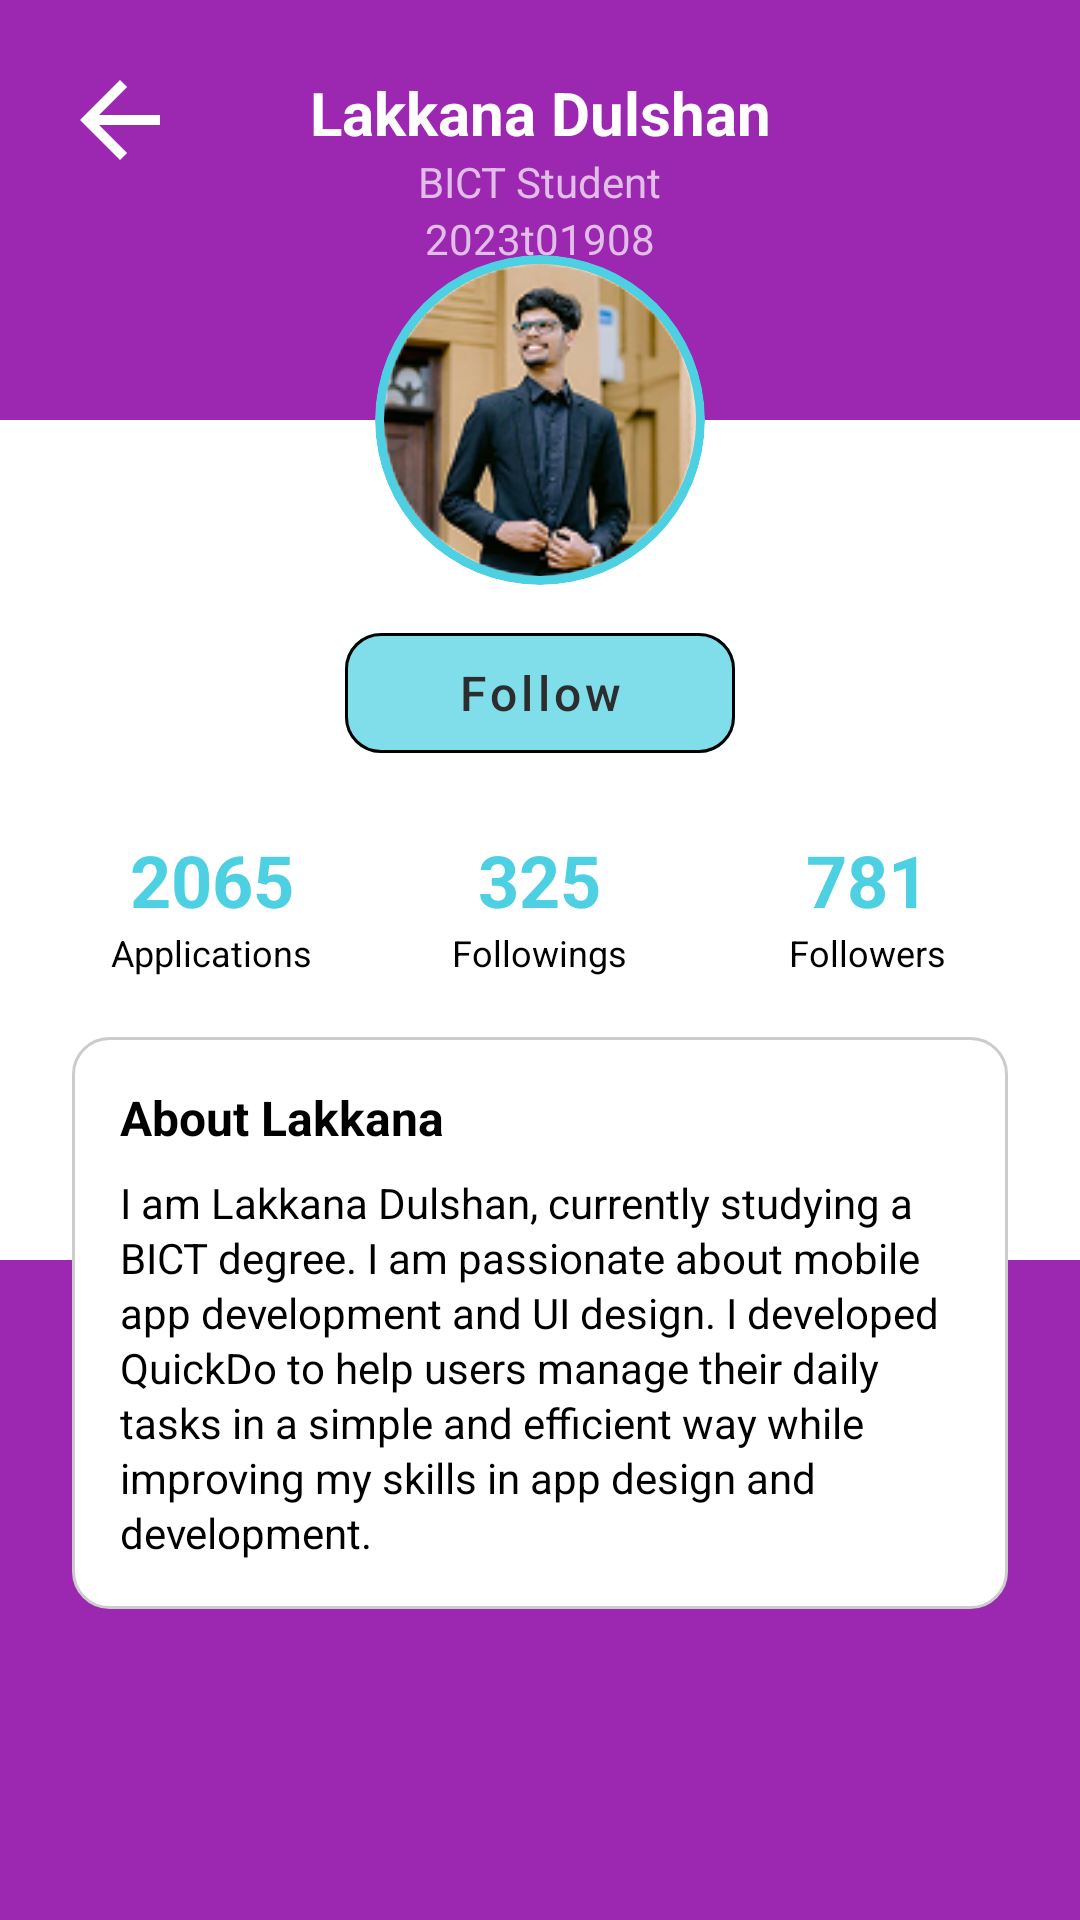

Icon bounding boxes for this 1080 × 1920 phone screenshot, format bbox=[x1, y1, x2, y2]:
arrow back: bbox=[80, 80, 160, 160]
